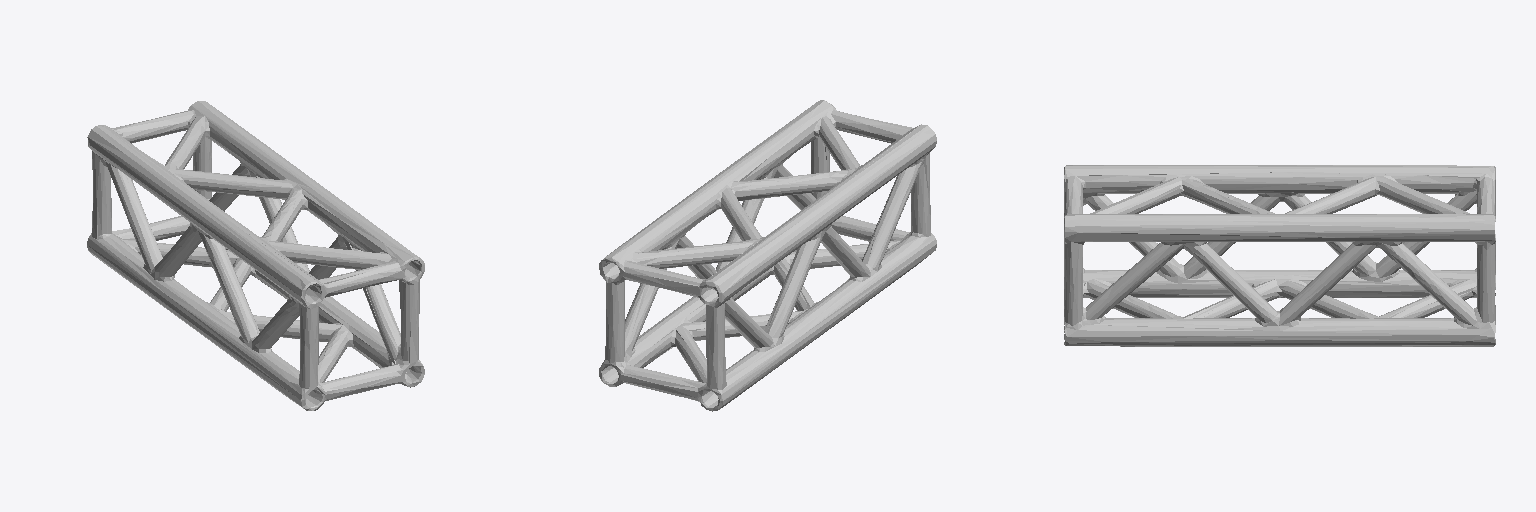
Rendered from truss.obj.
The picture shows the model from 3 angles: view 1: azimuth 30°, elevation 25°; view 2: azimuth 150°, elevation 25°; view 3: azimuth 270°, elevation 25°; orthographic projection.
Parts seen in each view (by area): view 1: mmGroup0; view 2: mmGroup0; view 3: mmGroup0.
Part boxes in pixels (left/top/right/bottom): mmGroup0: left=87, top=101, right=424, bottom=410; mmGroup0: left=599, top=100, right=936, bottom=411; mmGroup0: left=1064, top=165, right=1495, bottom=346.
Bounding box in the file's own units: 0.1706 × 0.1706 × 0.512.